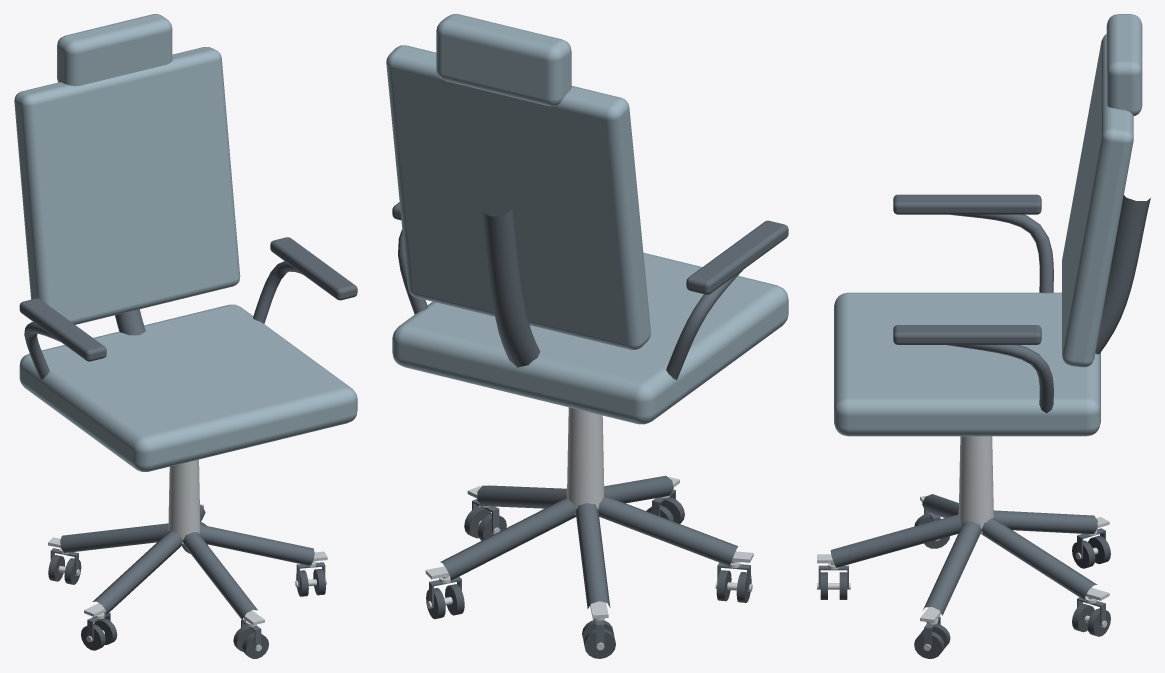
The model's file is office-chair.glb.
The picture shows the model from 3 angles, left to right: view 1: azimuth 30°, elevation 25°; view 2: azimuth 150°, elevation 25°; view 3: azimuth 270°, elevation 25°; orthographic projection. The views are drawn at different scales.
Visible parts, largest first — view 1: office-chair; view 2: office-chair; view 3: office-chair.
Boxes of the visible parts, x1,y1,x2,y2 form: office-chair: (14,14,357,658); office-chair: (386,14,788,658); office-chair: (817,14,1150,658).
Size of the model in its own units: 0.61 by 1.13 by 0.61.
